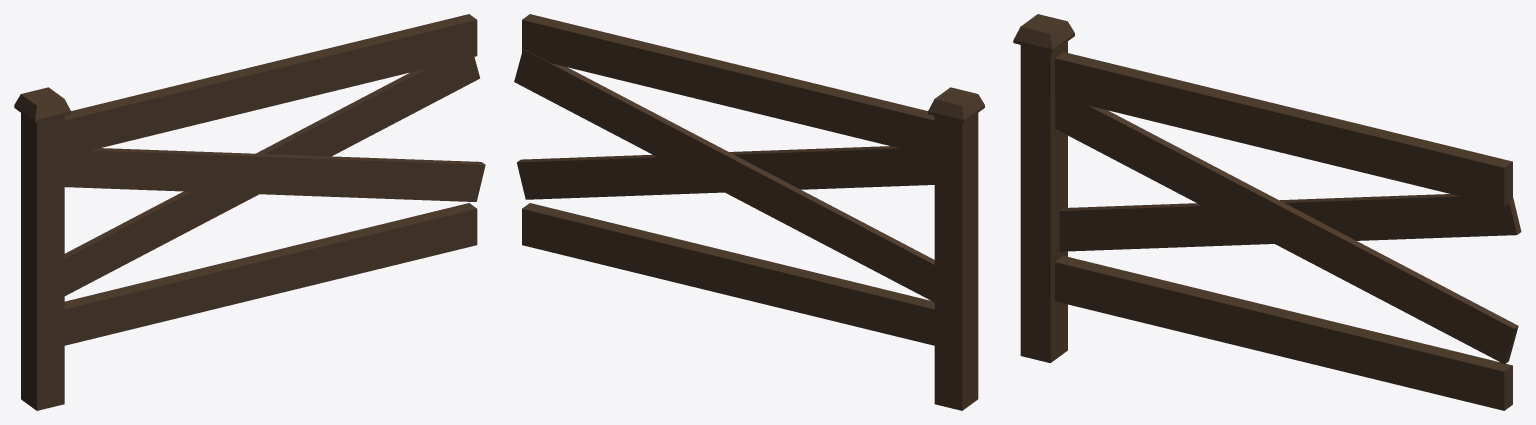
Rendered from Barn Fence Post Mid.glb.
The picture shows the model from 3 angles, left to right: view 1: azimuth 30°, elevation 25°; view 2: azimuth 150°, elevation 25°; view 3: azimuth 330°, elevation 25°; orthographic projection. The views are drawn at different scales.
Visible parts, largest first — view 1: Fence Post with mid pieces; view 2: Fence Post with mid pieces; view 3: Fence Post with mid pieces.
Part boxes in pixels (bbox=[...]): Fence Post with mid pieces: bbox=[14, 14, 485, 410]; Fence Post with mid pieces: bbox=[514, 14, 984, 410]; Fence Post with mid pieces: bbox=[1013, 14, 1521, 410].
Bounding box in the file's own units: 3.29 × 2.1 × 0.26.
Materials: 1 (1 with a texture image).
